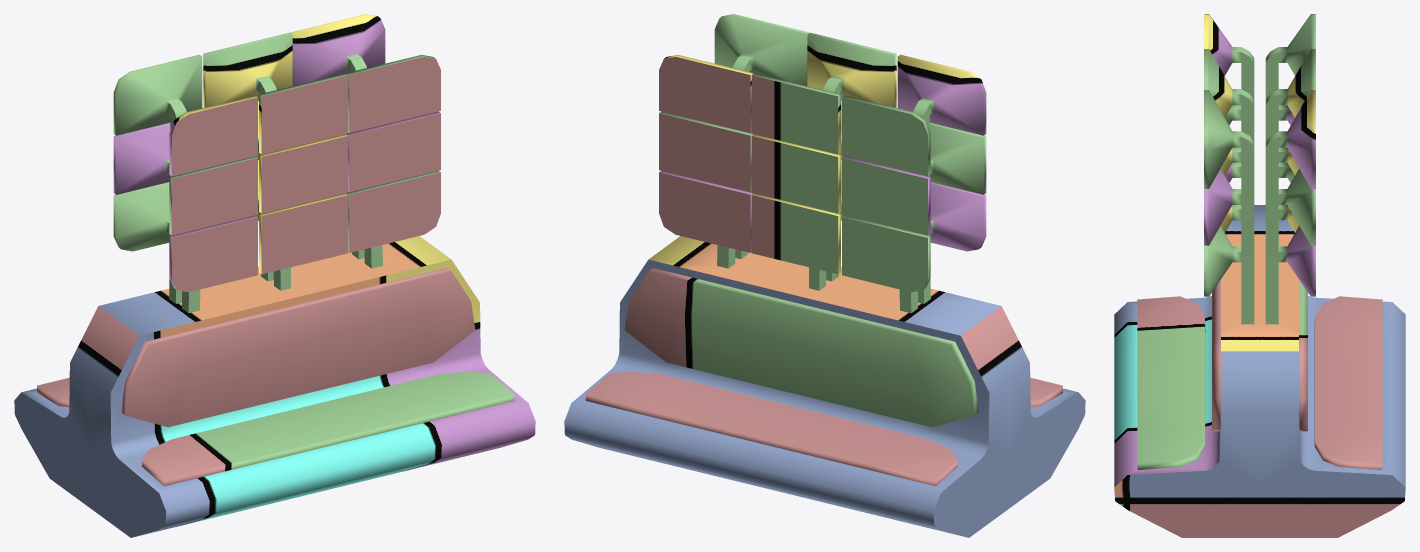
File: Bench01.fbx
The picture shows the model from 3 angles, left to right: view 1: azimuth 30°, elevation 25°; view 2: azimuth 150°, elevation 25°; view 3: azimuth 270°, elevation 25°; orthographic projection. The views are drawn at different scales.
Visible parts, largest first — view 1: Bench01_Body; view 2: Bench01_Body; view 3: Bench01_Body.
Part boxes in pixels (x1,y1,x2,y2): Bench01_Body: (14,14,535,537); Bench01_Body: (564,14,1085,537); Bench01_Body: (1114,14,1405,537).
Size of the model in its own units: 237 by 245 by 169.
